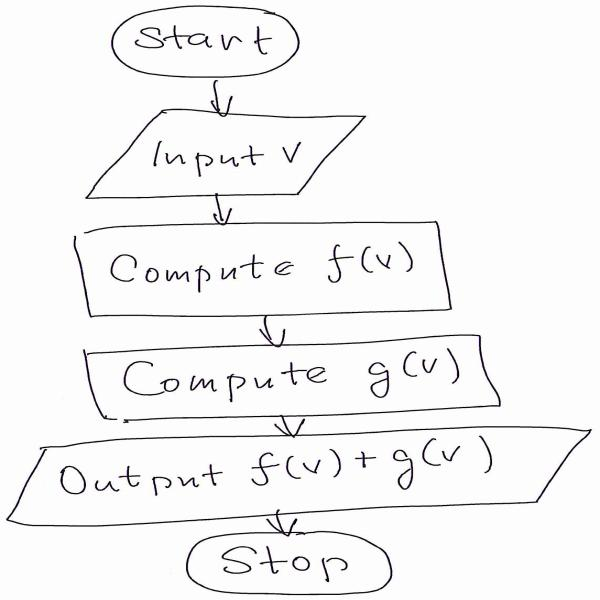arrow: (254, 504, 306, 538), (202, 74, 238, 117), (250, 314, 294, 347), (269, 410, 310, 438), (206, 194, 242, 224)
data: (0, 426, 599, 527), (78, 105, 371, 200)
process: (74, 220, 459, 320), (70, 332, 503, 418)
terminator: (102, 0, 306, 83), (180, 531, 398, 600)
text: (53, 433, 501, 497), (124, 347, 462, 399), (102, 241, 418, 292), (144, 131, 311, 176), (224, 540, 359, 584), (138, 15, 280, 54)
